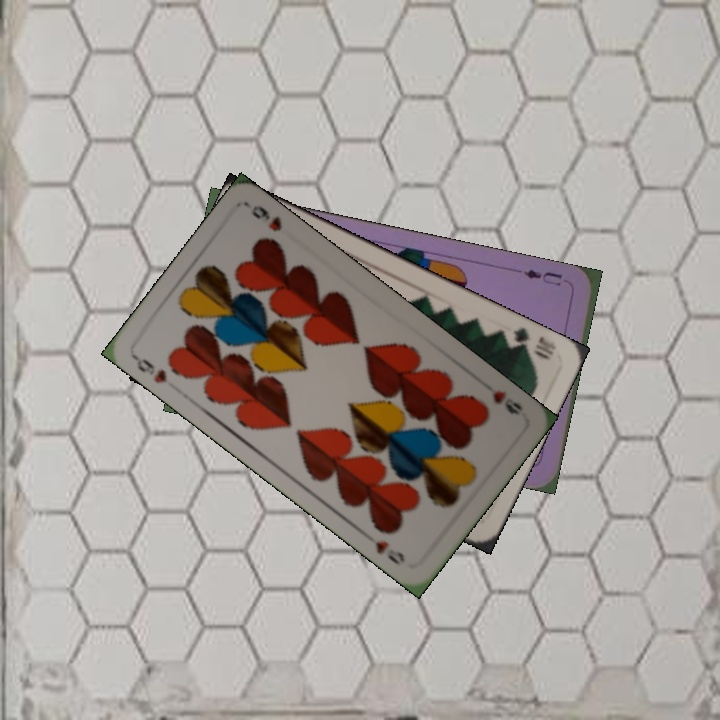EU: (520, 265, 565, 288)
G10: (500, 323, 559, 363)
H9: (130, 352, 170, 386), (488, 386, 525, 418)
